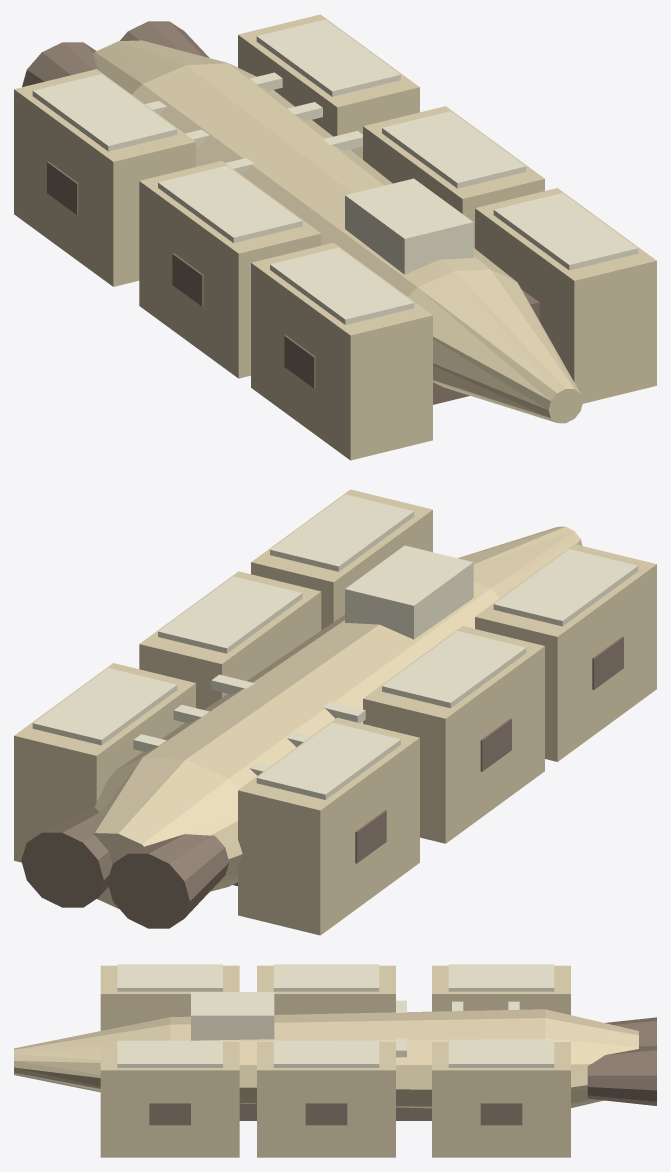
3 renders of one model, top to bottom at view 1: azimuth 30°, elevation 25°; view 2: azimuth 150°, elevation 25°; view 3: azimuth 270°, elevation 25°, orthographic. The views are drawn at different scales.
Bounding box in the file's own units: 3.53 × 1.58 × 9.07.
